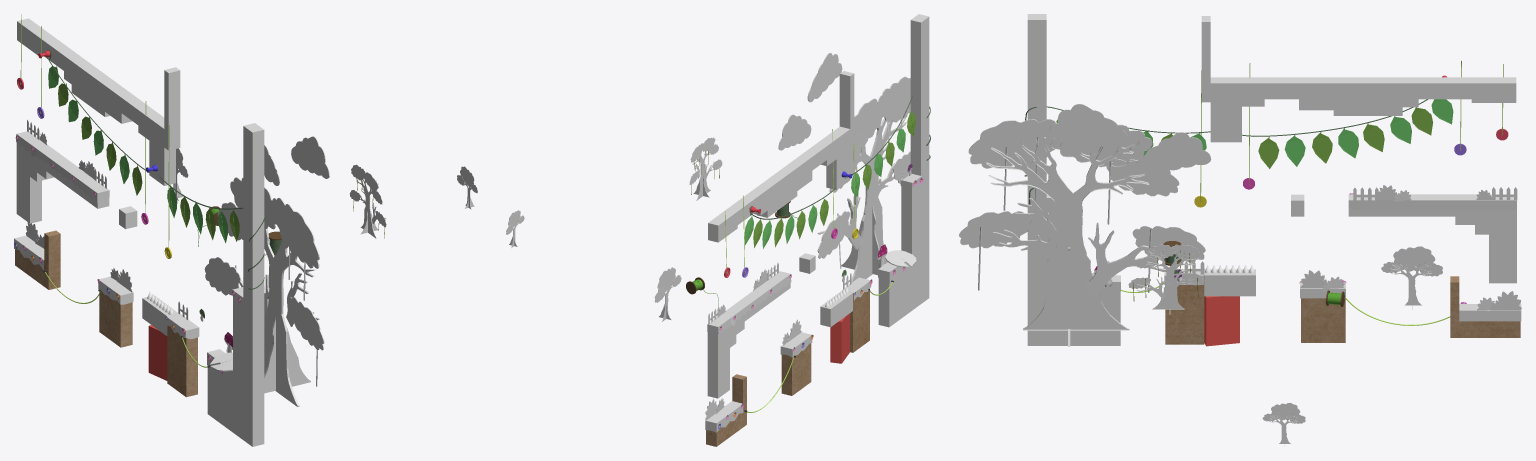
File: Pantalla9_DEF_TRUE.fbx
3 renders of one model, left to right at view 1: azimuth 30°, elevation 25°; view 2: azimuth 150°, elevation 25°; view 3: azimuth 270°, elevation 25°, orthographic. The views are drawn at different scales.
Parts seen in each view (by area): view 1: Pantalla_Obtención_Rana, Arbol1.016, Pantalla_Obtención_Rana.004, Cube.003, Nube.002, Arbol1.001, Arbol1.005, Arbol1.004, NurbsPath; view 2: Pantalla_Obtención_Rana, Arbol1.016, Pantalla_Obtención_Rana.004, Cube.003, Arbol1.001, Nube.002, Nube.003, Arbol1.005, Arbol1.004; view 3: Pantalla_Obtención_Rana, Arbol1.016, Pantalla_Obtención_Rana.004, Cube.003, Arbol1.001, Nube.002, Nube.003, Arbol1.004, Arbol1.005, Plane.009, Plane.001.
Part boxes in pixels (x1,y1,x2,y2): Pantalla_Obtención_Rana: (15,18,264,446); Arbol1.016: (204,177,324,406); Pantalla_Obtención_Rana.004: (14,131,243,380); Cube.003: (142,295,178,380); Nube.002: (291,136,329,178); Arbol1.001: (173,148,477,209); Arbol1.005: (349,164,386,226); Arbol1.004: (356,178,386,238); NurbsPath: (47,49,264,289); Pantalla_Obtención_Rana: (706,14,929,446); Arbol1.016: (817,76,910,284); Pantalla_Obtención_Rana.004: (705,174,921,432); Cube.003: (820,290,852,363); Arbol1.001: (506,210,681,321); Nube.002: (807,53,842,102); Nube.003: (778,114,811,150); Arbol1.005: (689,137,722,184); Arbol1.004: (691,151,713,200); Pantalla_Obtención_Rana: (1027,14,1520,345); Arbol1.016: (959,119,1205,346); Pantalla_Obtención_Rana.004: (1046,194,1521,321); Cube.003: (1204,269,1255,346); Arbol1.001: (1262,246,1442,446); Nube.002: (1049,104,1127,146); Nube.003: (1136,132,1211,172); Arbol1.004: (1137,249,1195,314); Arbol1.005: (1128,244,1204,288); Plane.009: (1477,291,1521,310); Plane.001: (1300,270,1344,291).
Size of the model in its own units: 6951 by 5835 by 9127.
